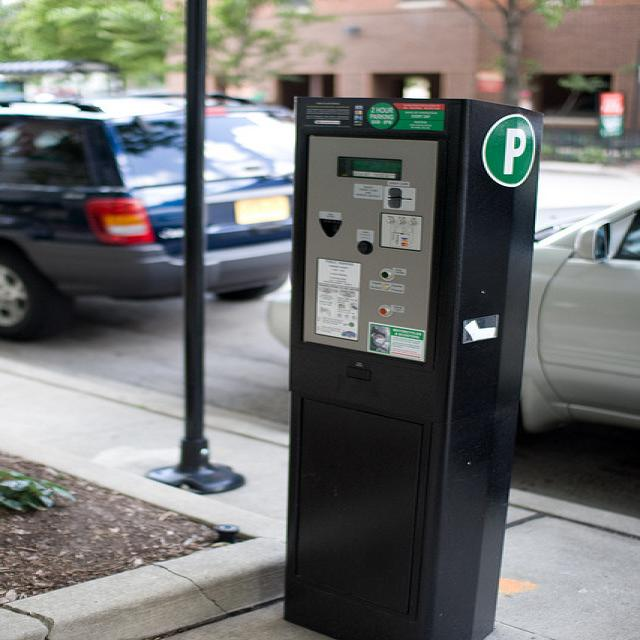Vehicle: (0, 90, 292, 338), (518, 195, 640, 445)
